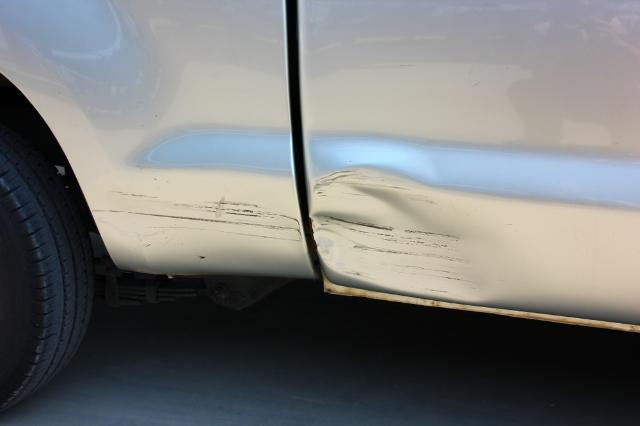dent: (311, 166, 488, 301)
scratch: (99, 192, 306, 243)
